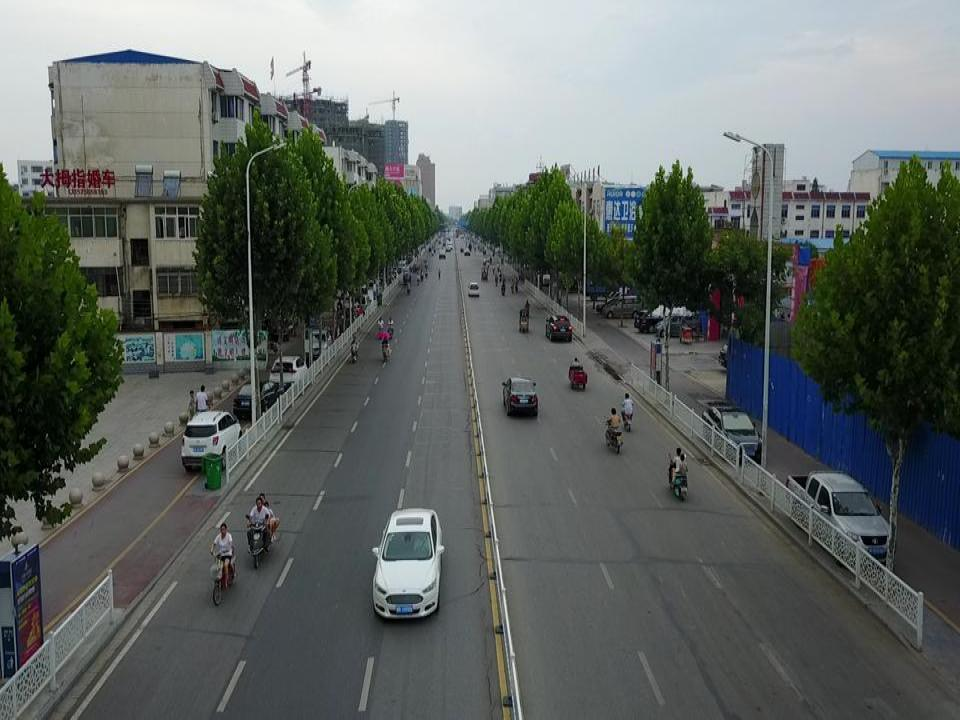car: (373, 510, 441, 618), (182, 405, 244, 467), (700, 401, 762, 460), (232, 375, 279, 420), (718, 339, 767, 372), (501, 377, 537, 415), (268, 357, 308, 384), (653, 315, 702, 333), (637, 311, 677, 332), (595, 294, 637, 314), (305, 325, 332, 355), (544, 316, 572, 339), (541, 272, 554, 285), (468, 281, 480, 295), (438, 249, 445, 259), (463, 248, 471, 256), (445, 245, 451, 252), (446, 241, 452, 247)
truck: (788, 469, 888, 559), (580, 272, 645, 299)
van: (600, 294, 648, 318)
